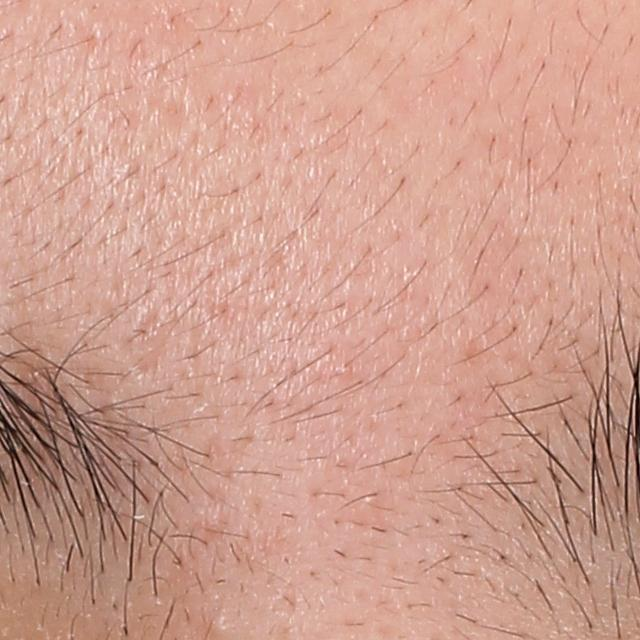comedo: (207, 611, 232, 635)
